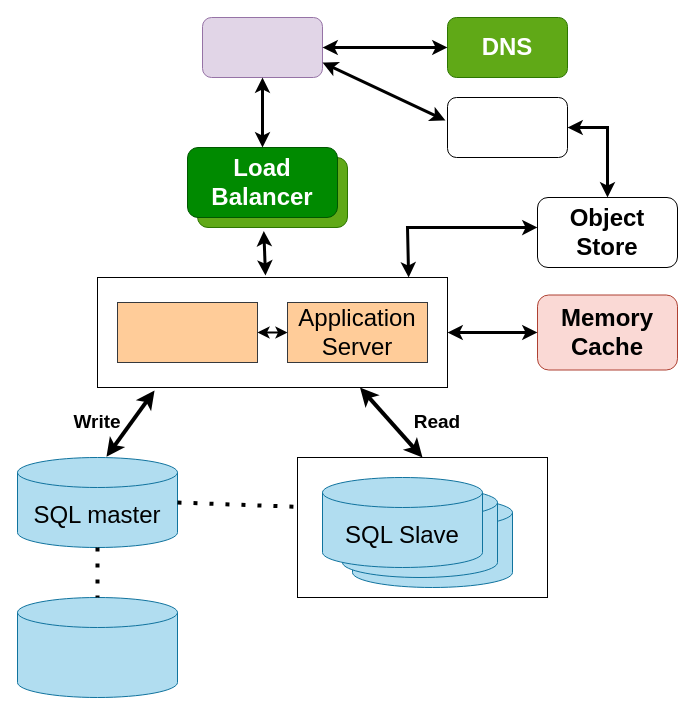
Some shapes in this 695 by 715 pixel diagram are drawn without their labels. The shapes that lost their labels are listed below. From the top down, each one's centre as x and y in pixels, then its label:
At point (262, 47): "Client".
At point (507, 127): "CDN".
At point (187, 332): "Web Server".
At point (97, 647): "SQL master backup".
